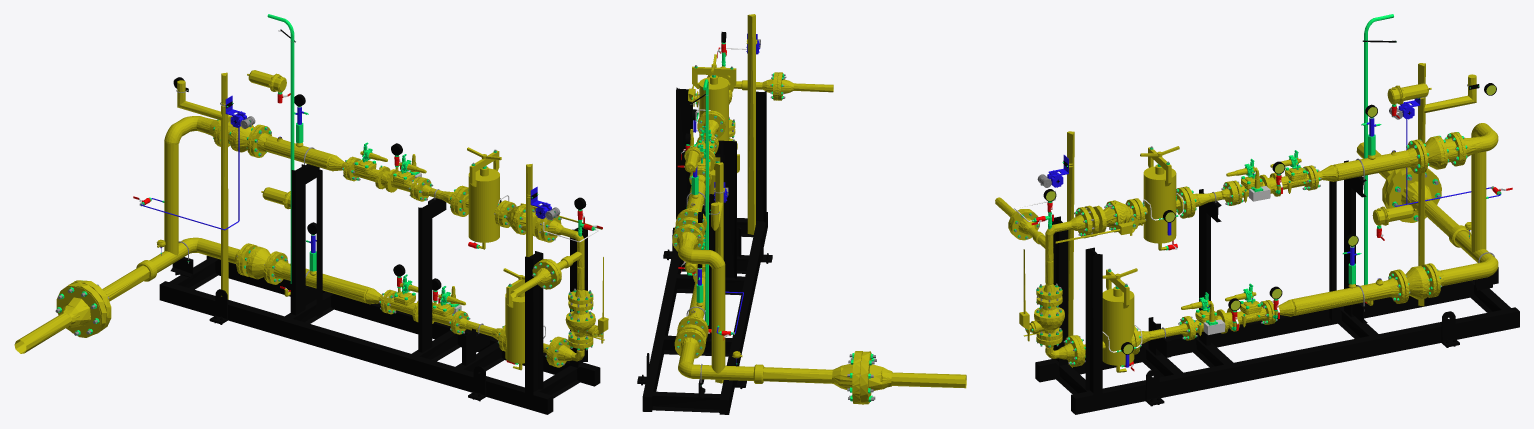
File: erp.glb
The picture shows the model from 3 angles, left to right: view 1: azimuth 30°, elevation 25°; view 2: azimuth 150°, elevation 25°; view 3: azimuth 270°, elevation 25°; orthographic projection. The views are drawn at different scales.
Parts seen in each view (by area): view 1: VIGA I001_01 - Defaultb_0, Layer:COTA005_01 - Default_0, Layer:COTA010_01 - Default_0, VIGA I_01 - Defaultb_0, Shape026_01 - Default_0, VIGA I006_01 - Defaultb_0, VIGA I008_01 - Defaultb_0, Cylinder034, VIGA I016_01 - Defaultb_0, Shape016_01 - Default_0, Cylinder122, Object234_01 - Default_0 (+19 smaller); view 2: VIGA I001_01 - Defaultb_0, Shape026_01 - Default_0, Cylinder086, VIGA I_01 - Defaultb_0, Shape027_01 - Default_0, VIGA I008_01 - Defaultb_0, Shape016_01 - Default_0, Layer:COTA005_01 - Default_0, VIGA I007_01 - Defaultb_0, VIGA I006_01 - Defaultb_0, Layer:COTA010_01 - Default_0, Shape015_01 - Default_0 (+13 smaller); view 3: VIGA I_01 - Defaultb_0, VIGA I001_01 - Defaultb_0, Layer:COTA005_01 - Default_0, Layer:COTA010_01 - Default_0, VIGA I007_01 - Defaultb_0, Cylinder034, Cylinder039, Shape027_01 - Default_0, Object234_01 - Default_0, Shape016_01 - Default_0, Shape009_01 - Default_0, VIGA I006_01 - Defaultb_0 (+21 smaller).
Boxes of the visible parts, bbox=[...] form: VIGA I001_01 - Defaultb_0: bbox=[159, 281, 553, 414]; Layer:COTA005_01 - Default_0: bbox=[199, 115, 424, 200]; Layer:COTA010_01 - Default_0: bbox=[234, 243, 461, 333]; VIGA I_01 - Defaultb_0: bbox=[206, 255, 600, 386]; Shape026_01 - Default_0: bbox=[14, 282, 106, 353]; VIGA I006_01 - Defaultb_0: bbox=[525, 251, 543, 394]; VIGA I008_01 - Defaultb_0: bbox=[418, 201, 432, 352]; Cylinder034: bbox=[468, 168, 499, 249]; VIGA I016_01 - Defaultb_0: bbox=[291, 164, 305, 315]; Shape016_01 - Default_0: bbox=[164, 122, 185, 255]; Cylinder122: bbox=[221, 72, 228, 299]; Object234_01 - Default_0: bbox=[565, 260, 595, 351]; VIGA I001_01 - Defaultb_0: bbox=[719, 212, 767, 414]; Shape026_01 - Default_0: bbox=[860, 351, 966, 404]; Cylinder086: bbox=[747, 14, 755, 234]; VIGA I_01 - Defaultb_0: bbox=[642, 247, 681, 411]; Shape027_01 - Default_0: bbox=[763, 351, 862, 404]; VIGA I008_01 - Defaultb_0: bbox=[720, 140, 736, 278]; Shape016_01 - Default_0: bbox=[705, 250, 725, 373]; Layer:COTA005_01 - Default_0: bbox=[672, 135, 718, 251]; VIGA I007_01 - Defaultb_0: bbox=[676, 87, 692, 218]; VIGA I006_01 - Defaultb_0: bbox=[756, 91, 766, 222]; Layer:COTA010_01 - Default_0: bbox=[674, 233, 708, 358]; Shape015_01 - Default_0: bbox=[678, 342, 754, 380]; VIGA I_01 - Defaultb_0: bbox=[1071, 307, 1519, 414]; VIGA I001_01 - Defaultb_0: bbox=[1035, 280, 1475, 382]; Layer:COTA005_01 - Default_0: bbox=[1229, 132, 1483, 205]; Layer:COTA010_01 - Default_0: bbox=[1186, 263, 1444, 340]; VIGA I007_01 - Defaultb_0: bbox=[1085, 247, 1102, 396]; Cylinder034: bbox=[1143, 166, 1176, 250]; Cylinder039: bbox=[1102, 288, 1134, 372]; Shape027_01 - Default_0: bbox=[1385, 167, 1458, 236]; Object234_01 - Default_0: bbox=[1034, 253, 1064, 348]; Shape016_01 - Default_0: bbox=[1471, 123, 1490, 252]; Shape009_01 - Default_0: bbox=[1045, 205, 1099, 366]; VIGA I006_01 - Defaultb_0: bbox=[1051, 216, 1068, 365].
Bounding box in the file's own units: 140 × 91.25 × 138.
